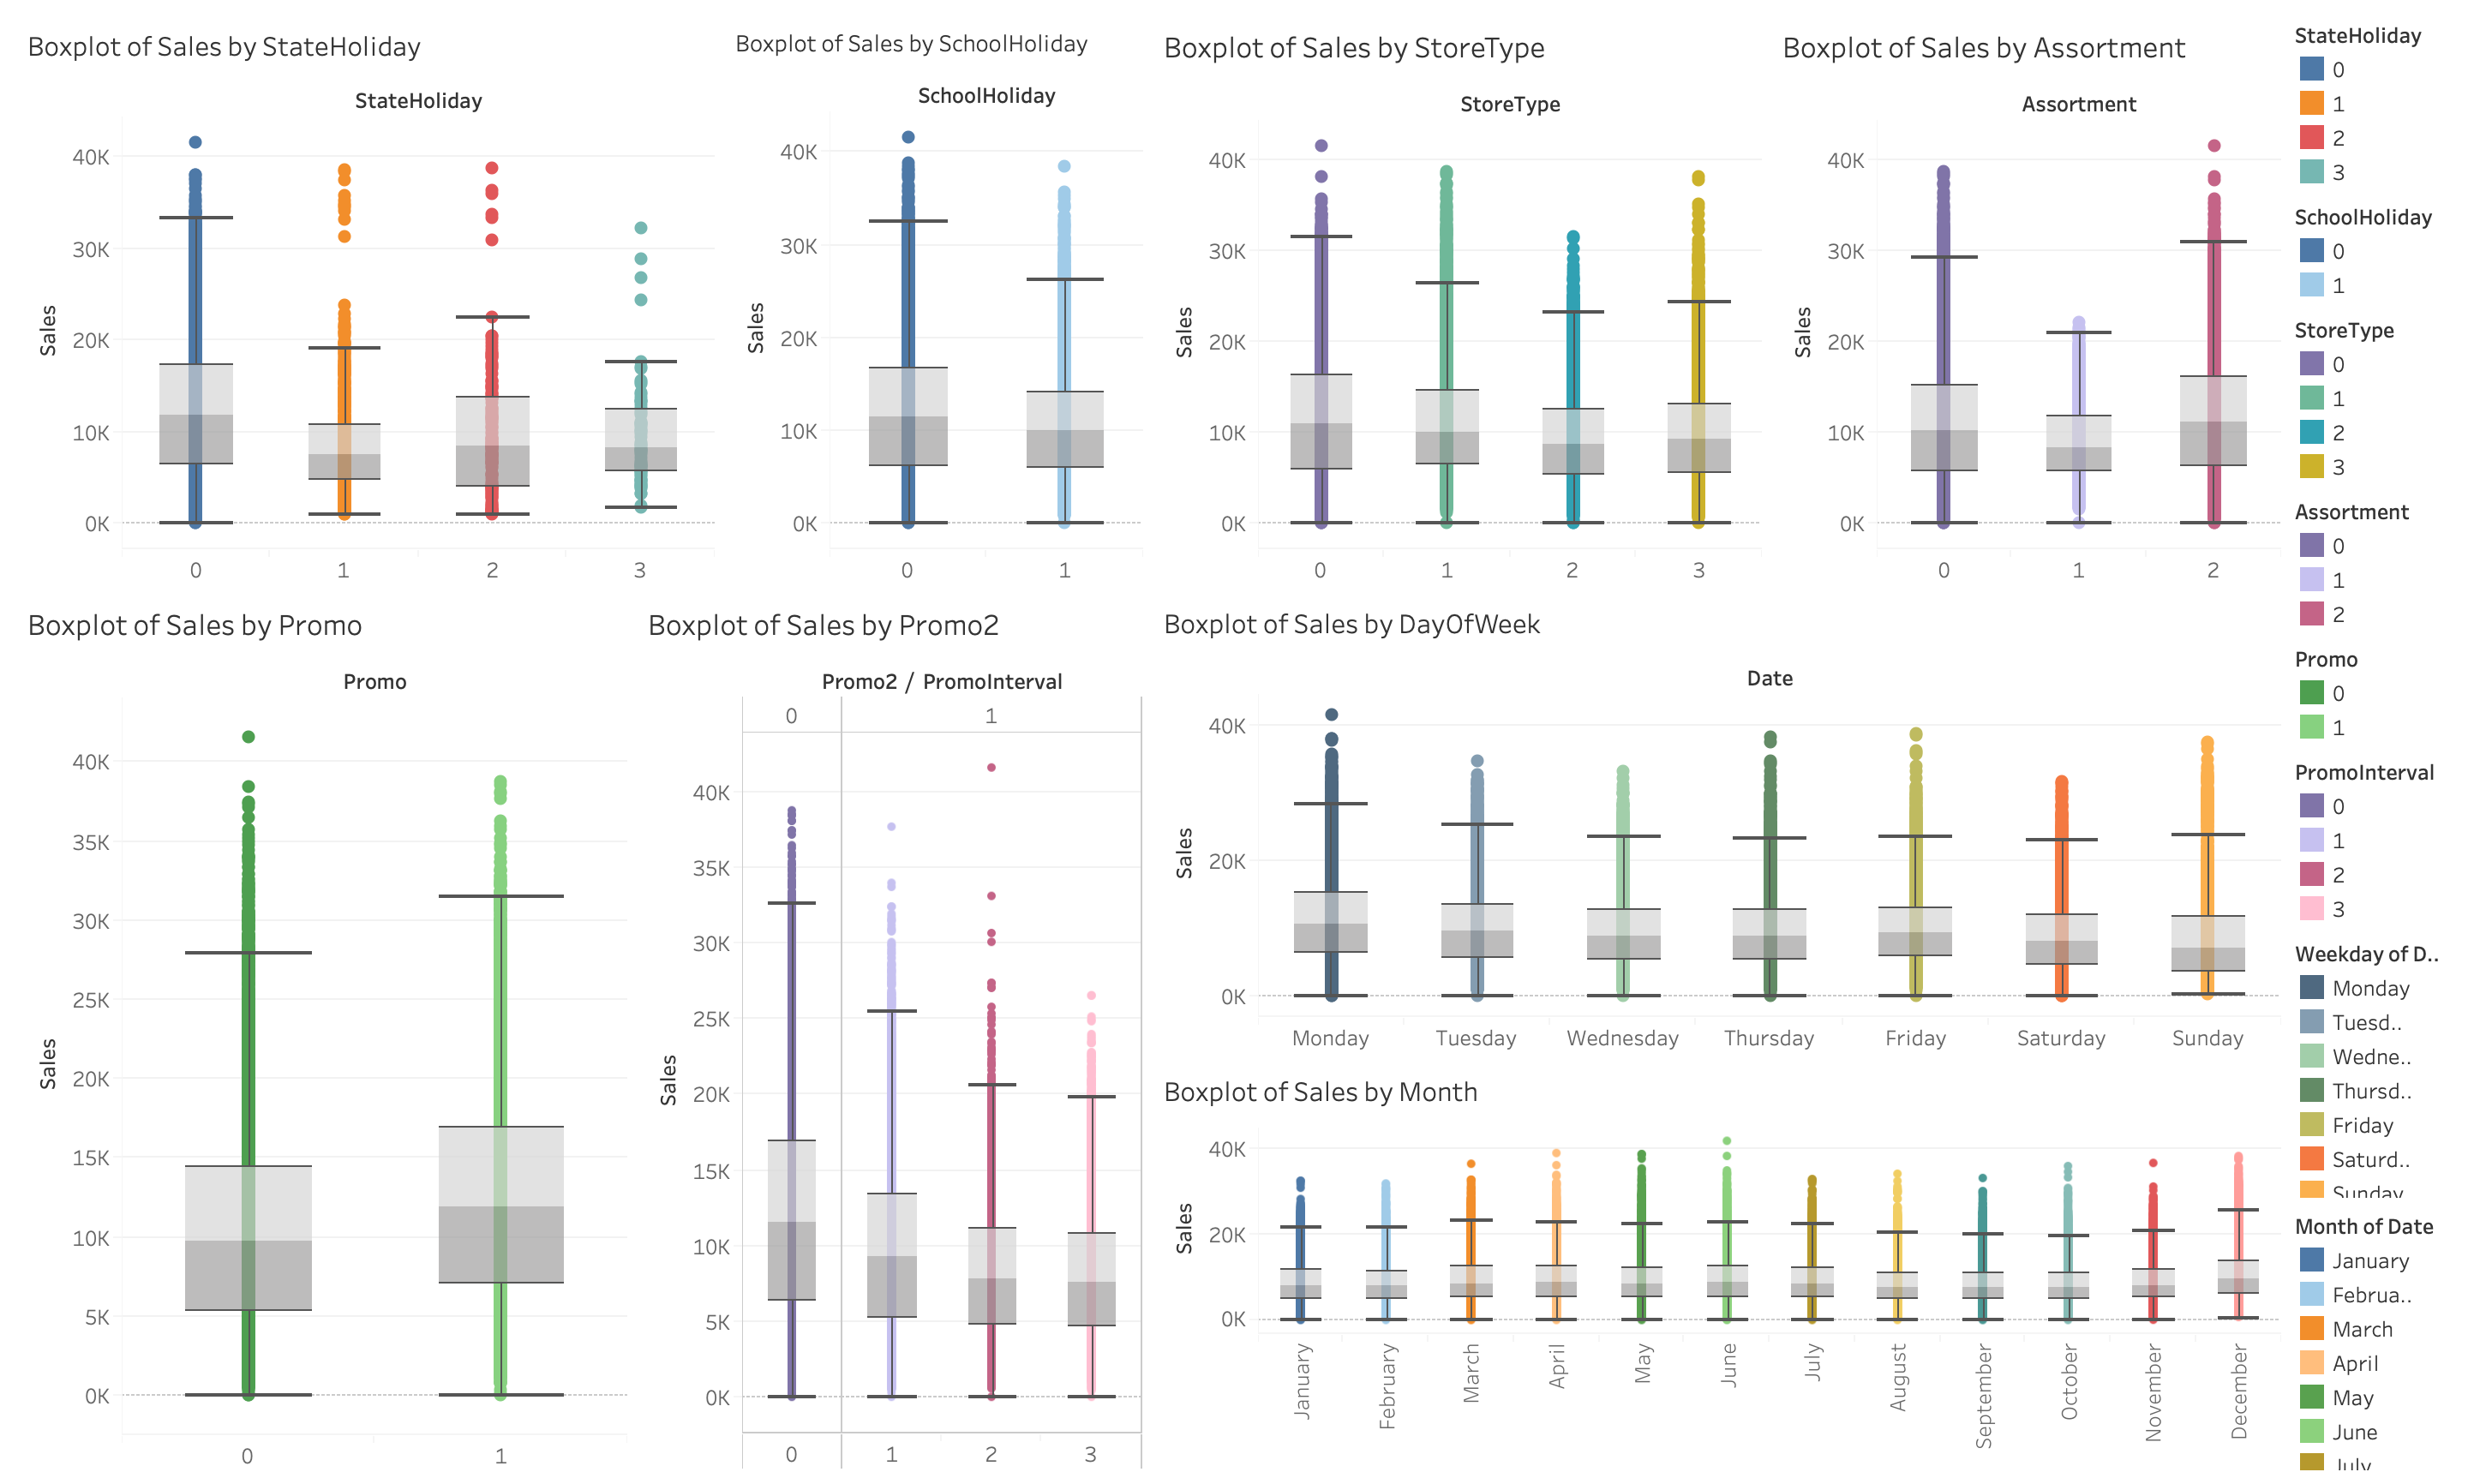

The dashboard page shown, as its layout file describes it:
{"tool":"tableau","page":{"name":"Dashboard 5","canvas":[1000,1000],"units":"permille","ordinal":9},"visuals":[{"type":"worksheet","title":"StateHoliday_box","mark":"Circle","rows":["Sales"],"cols":["StateHoliday"],"box":[5.6,9.2,287.1,387.8]},{"type":"worksheet","title":"SchoolHoliday_box","mark":"Circle","rows":["Sales"],"cols":["SchoolHoliday"],"box":[292.7,9.2,173.6,387.8]},{"type":"worksheet","title":"StoreType_box","mark":"Circle","rows":["Sales"],"cols":["StoreType"],"box":[466.2,9.2,250.7,387.8]},{"type":"worksheet","title":"Assortment_box","mark":"Circle","rows":["Sales"],"cols":["Assortment"],"box":[716.9,9.2,210.2,387.8]},{"type":"legend","title":"StateHoliday_box","param":"[federated.186bjvi17ohryo11no4zy1xzhkgd].[none:StateHoliday:ok]","box":[927.1,9.2,67.4,121.8]},{"type":"legend","title":"SchoolHoliday_box","param":"[federated.186bjvi17ohryo11no4zy1xzhkgd].[none:SchoolHoliday:ok]","box":[927.1,131,67.4,75.9]},{"type":"legend","title":"StoreType_box","param":"[federated.186bjvi17ohryo11no4zy1xzhkgd].[none:StoreType:ok]","box":[927.1,206.9,67.4,121.8]},{"type":"legend","title":"Assortment_box","param":"[federated.186bjvi17ohryo11no4zy1xzhkgd].[none:Assortment:ok]","box":[927.1,328.8,67.4,98.9]},{"type":"worksheet","title":"Promo_box","mark":"Circle","rows":["Sales"],"cols":["Promo"],"box":[5.6,397,251.5,593.8]},{"type":"worksheet","title":"Promo2_box","mark":"Circle","rows":["Sales"],"cols":["Promo2","PromoInterval"],"box":[257.1,397,208.7,593.8]},{"type":"worksheet","title":"DayOfWeek_box","mark":"Circle","rows":["Sales"],"cols":["Date"],"box":[465.8,397,461.3,313.9]},{"type":"legend","title":"Promo_box","param":"[federated.186bjvi17ohryo11no4zy1xzhkgd].[none:Promo:ok]","box":[927.1,427.6,67.4,75.9]},{"type":"legend","title":"Promo2_box","param":"[federated.186bjvi17ohryo11no4zy1xzhkgd].[none:PromoInterval:ok]","box":[927.1,503.5,67.4,121.8]},{"type":"legend","title":"DayOfWeek_box","param":"[federated.186bjvi17ohryo11no4zy1xzhkgd].[wd:Date:ok]","box":[927.1,625.3,67.4,182.7]},{"type":"worksheet","title":"Month_box","mark":"Circle","rows":["Sales"],"cols":["Date"],"box":[465.8,710.9,461.3,279.9]},{"type":"legend","title":"Month_box","param":"[federated.186bjvi17ohryo11no4zy1xzhkgd].[mn:Date:ok]","box":[927.1,808.1,67.4,182.7]}]}

Visuals, with their boxes on the dashboard's canvas, which has no fixed pixel size, in thousandths of its width and height (x1, y1, x2, y2). These are canvas units, not pixel positions in the 2468x1484 screenshot, which may show the page scaled, cropped or inside an application window:
"StateHoliday_box" worksheet (Circle marks): BBox(6, 9, 293, 397)
"SchoolHoliday_box" worksheet (Circle marks): BBox(293, 9, 466, 397)
"StoreType_box" worksheet (Circle marks): BBox(466, 9, 717, 397)
"Assortment_box" worksheet (Circle marks): BBox(717, 9, 927, 397)
"StateHoliday_box" legend: BBox(927, 9, 994, 131)
"SchoolHoliday_box" legend: BBox(927, 131, 994, 207)
"StoreType_box" legend: BBox(927, 207, 994, 329)
"Assortment_box" legend: BBox(927, 329, 994, 428)
"Promo_box" worksheet (Circle marks): BBox(6, 397, 257, 991)
"Promo2_box" worksheet (Circle marks): BBox(257, 397, 466, 991)
"DayOfWeek_box" worksheet (Circle marks): BBox(466, 397, 927, 711)
"Promo_box" legend: BBox(927, 428, 994, 504)
"Promo2_box" legend: BBox(927, 504, 994, 625)
"DayOfWeek_box" legend: BBox(927, 625, 994, 808)
"Month_box" worksheet (Circle marks): BBox(466, 711, 927, 991)
"Month_box" legend: BBox(927, 808, 994, 991)
